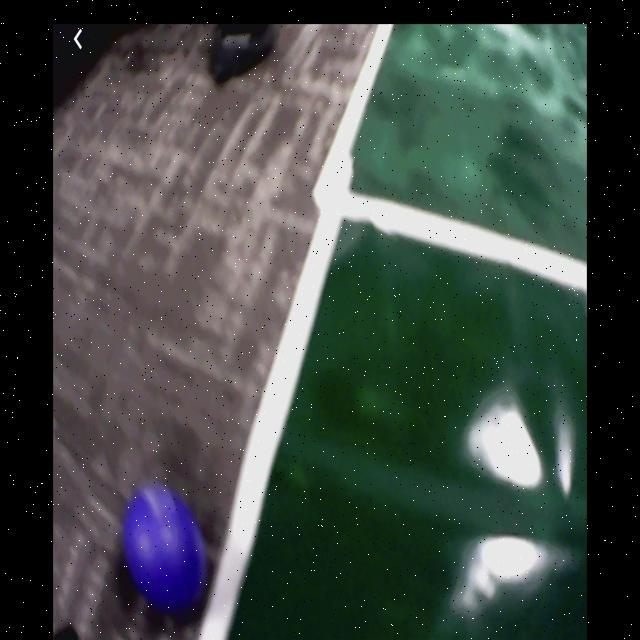ball: (126, 488, 208, 614)
